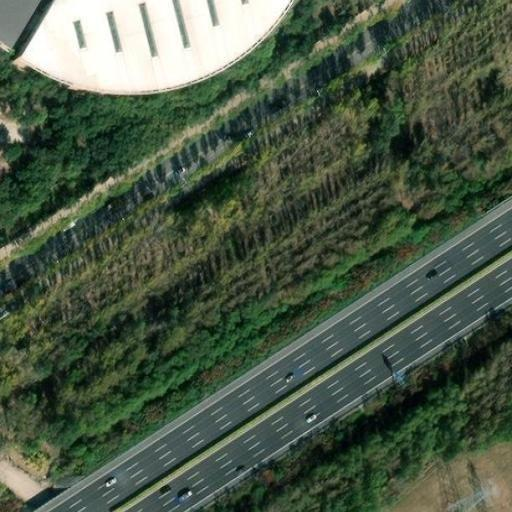building: (17, 0, 287, 90)
